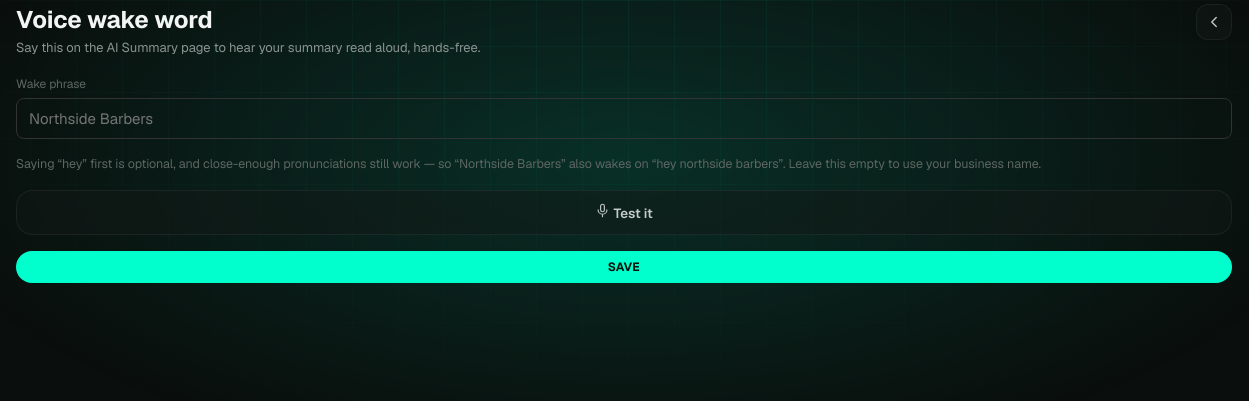
Test case: WakeWordSettings › Test it › reports a blocked microphone instead of "would not wake it" when recognition errors
This screenshot has width=1249, height=401.
Expected: the field with placeholder "Northside Barbers" is shown, x1=16 y1=98 x2=1232 y2=139
Click the button "Test it": {"x": 624, "y": 212} x1=16 y1=190 x2=1232 y2=235
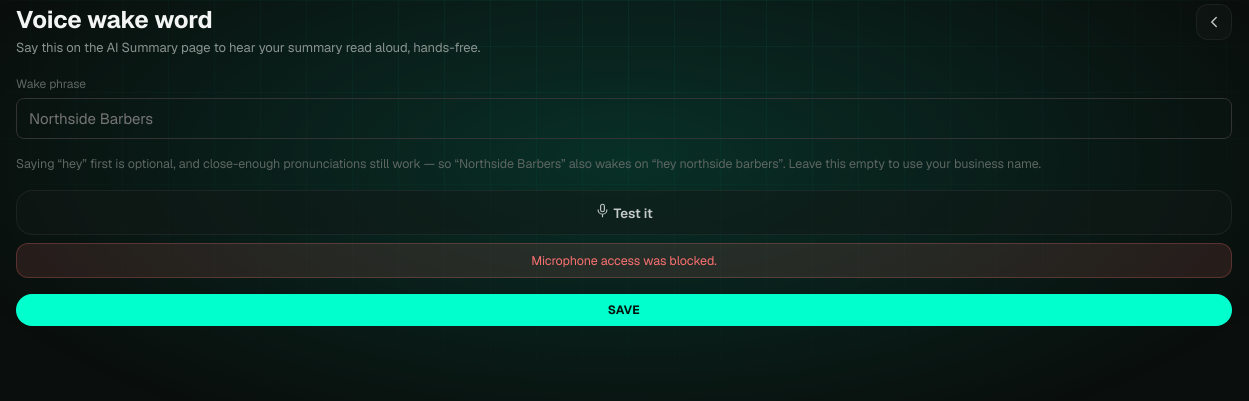
Expected: the text "Microphone access was blocked." is shown, x1=16 y1=243 x2=1232 y2=278
